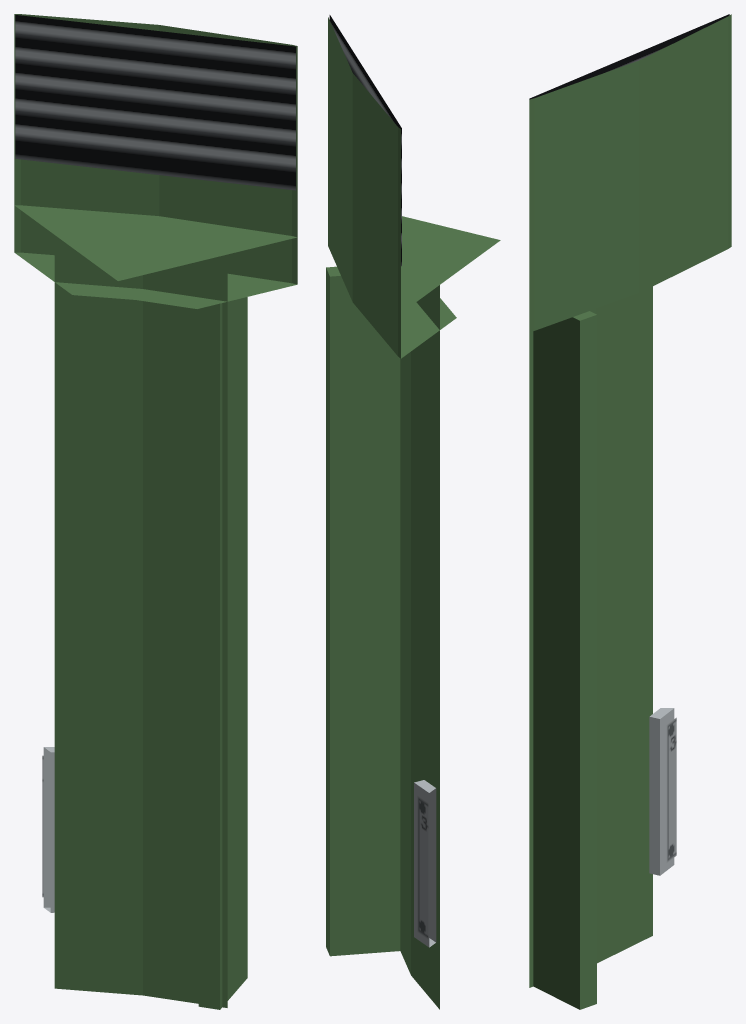
File: cell_48.obj
3 renders of one model, left to right at view 1: azimuth 30°, elevation 25°; view 2: azimuth 150°, elevation 25°; view 3: azimuth 270°, elevation 25°, orthographic. The views are drawn at different scales.
Size of the model in its own units: 0.1991 by 1 by 0.1991.
